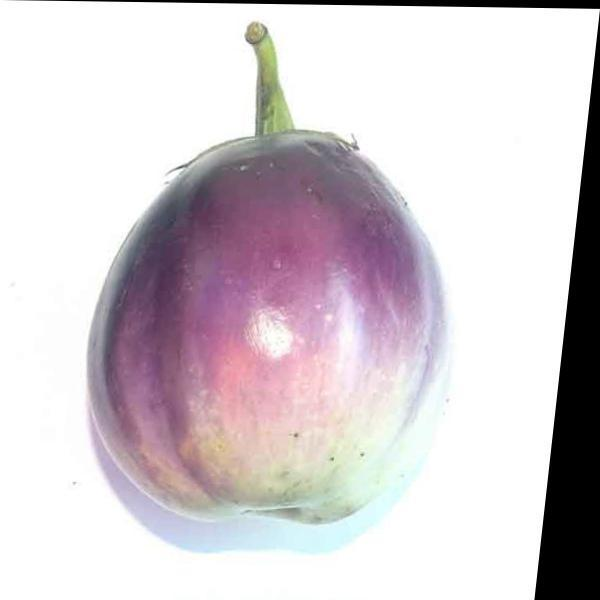eggplant: (78, 42, 473, 542)
